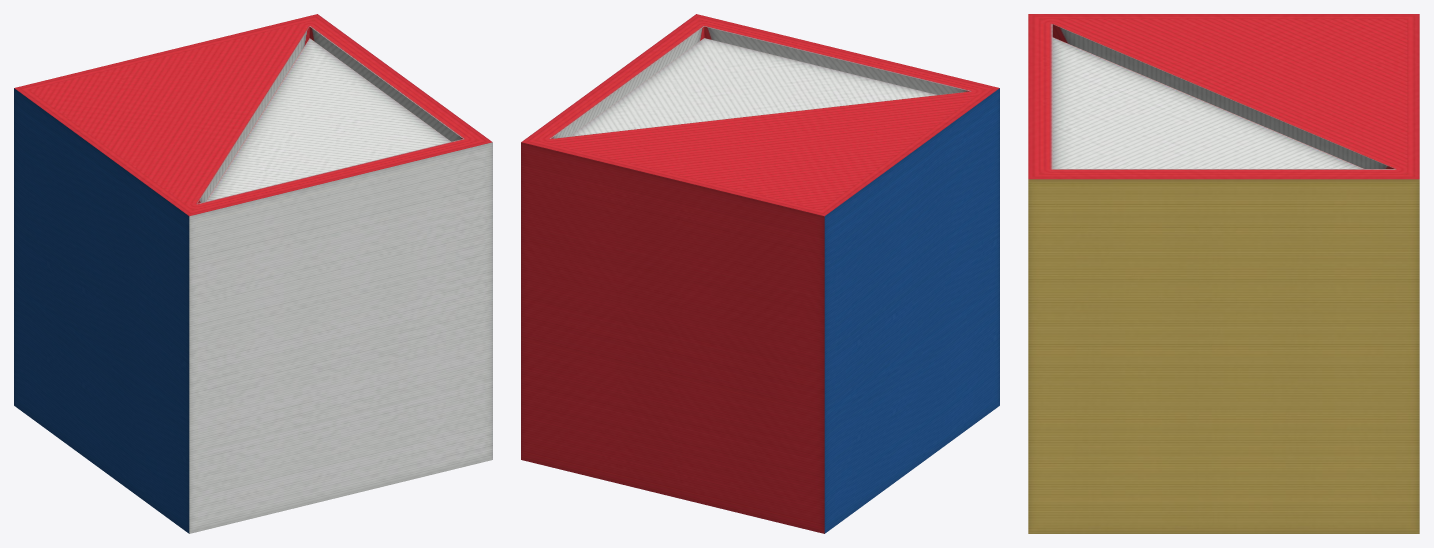
The model's file is color-cube-printed.glb.
The picture shows the model from 3 angles, left to right: view 1: azimuth 30°, elevation 25°; view 2: azimuth 150°, elevation 25°; view 3: azimuth 270°, elevation 25°; orthographic projection. The views are drawn at different scales.
Parts seen in each view (by area): view 1: ColorCubePrinted; view 2: ColorCubePrinted; view 3: ColorCubePrinted.
Boxes of the visible parts, bbox=[...] form: ColorCubePrinted: bbox=[14, 14, 492, 533]; ColorCubePrinted: bbox=[521, 14, 999, 533]; ColorCubePrinted: bbox=[1028, 14, 1419, 533].
Bounding box in the file's own units: 0.0275 × 0.0275 × 0.0275.
Materials: 1 (1 with a texture image).
